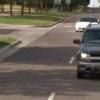Car: (69, 12, 100, 92)
